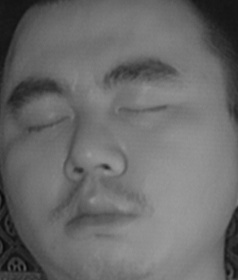blink: (121, 92, 167, 129), (25, 107, 71, 139)
mouth: (54, 190, 142, 245)
